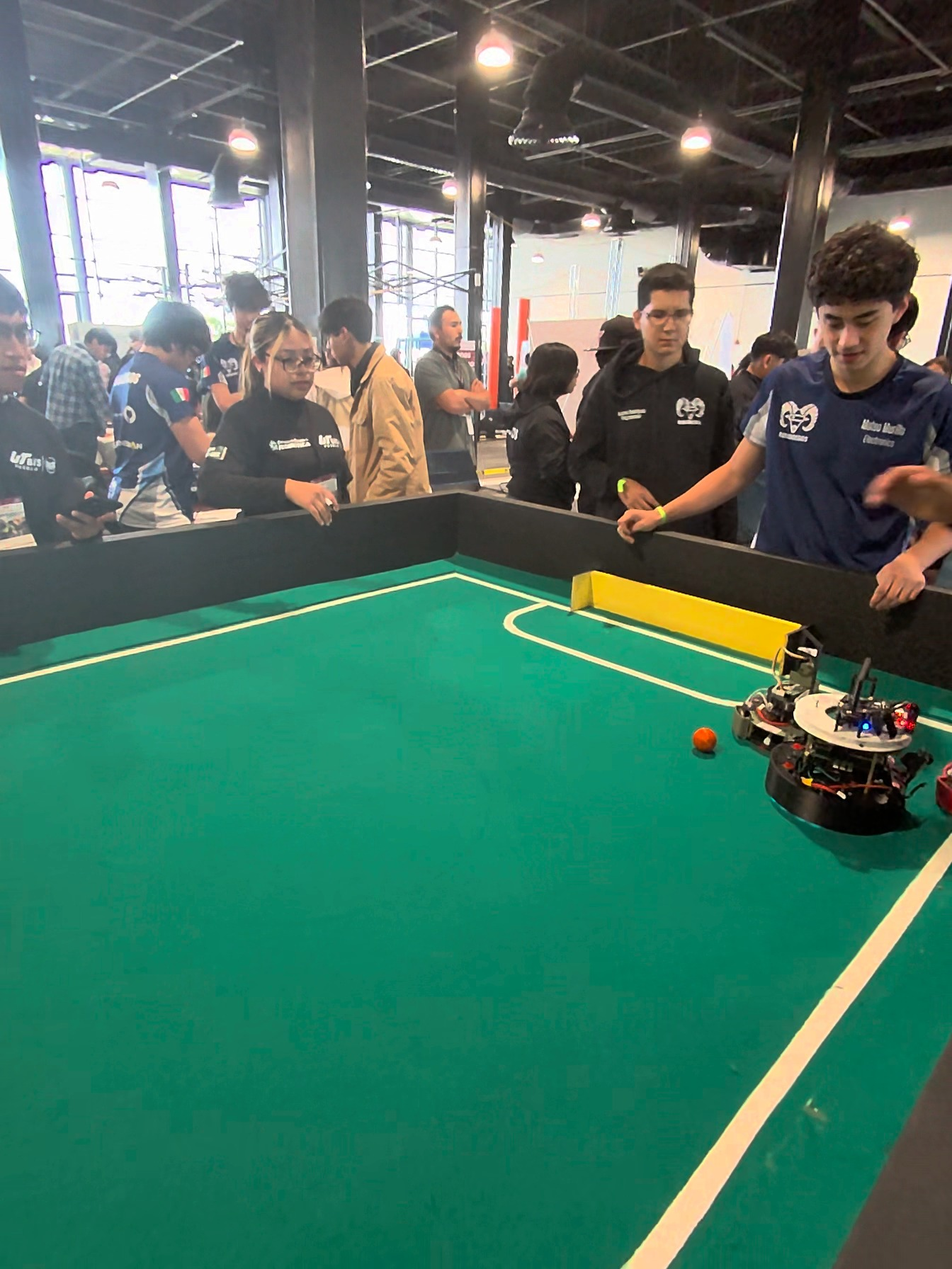Robot: (764, 654, 939, 856), (731, 623, 823, 751)
pelota: (690, 722, 718, 752)
